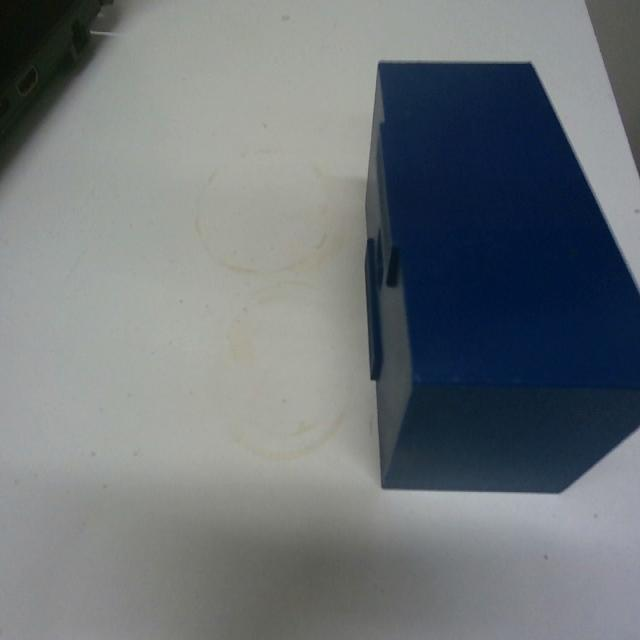Blue Cuboid: (361, 56, 639, 495)
